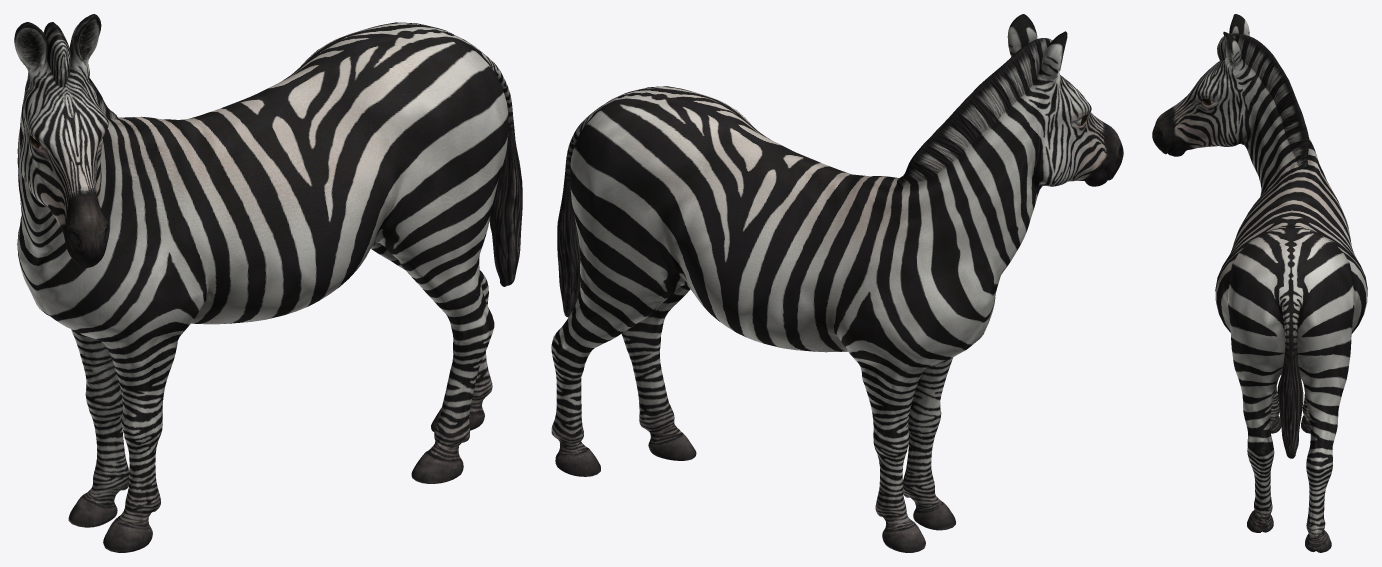
Rendered from zebra.fbx.
3 renders of one model, left to right at view 1: azimuth 30°, elevation 25°; view 2: azimuth 150°, elevation 25°; view 3: azimuth 270°, elevation 25°, orthographic. The views are drawn at different scales.
Visible parts, largest first — view 1: node_id181; view 2: node_id181; view 3: node_id181.
Part boxes in pixels (x1=…): node_id181: x1=14, y1=14, x2=522, y2=552; node_id181: x1=551, y1=14, x2=1123, y2=552; node_id181: x1=1152, y1=14, x2=1367, y2=552.
Bounding box in the file's own units: 51.19 × 51.2 × 26.64.
